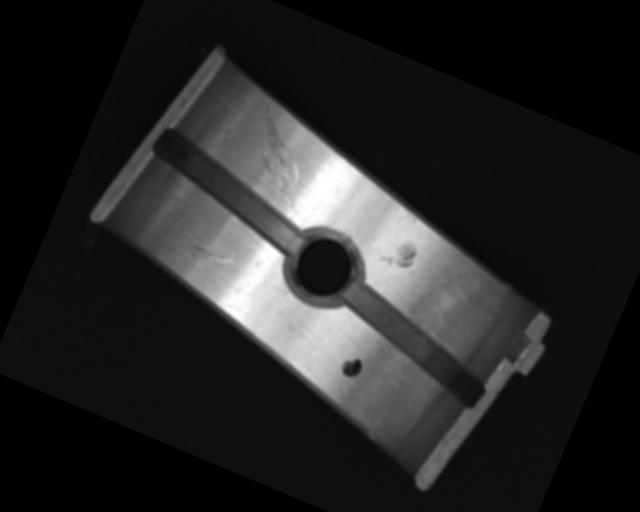blot: (338, 353, 366, 381)
bruise: (379, 234, 420, 272), (399, 207, 420, 225)
gap: (136, 124, 324, 256), (323, 279, 502, 411)
hole: (275, 219, 369, 317)
nick: (234, 104, 329, 213), (184, 237, 245, 275)
